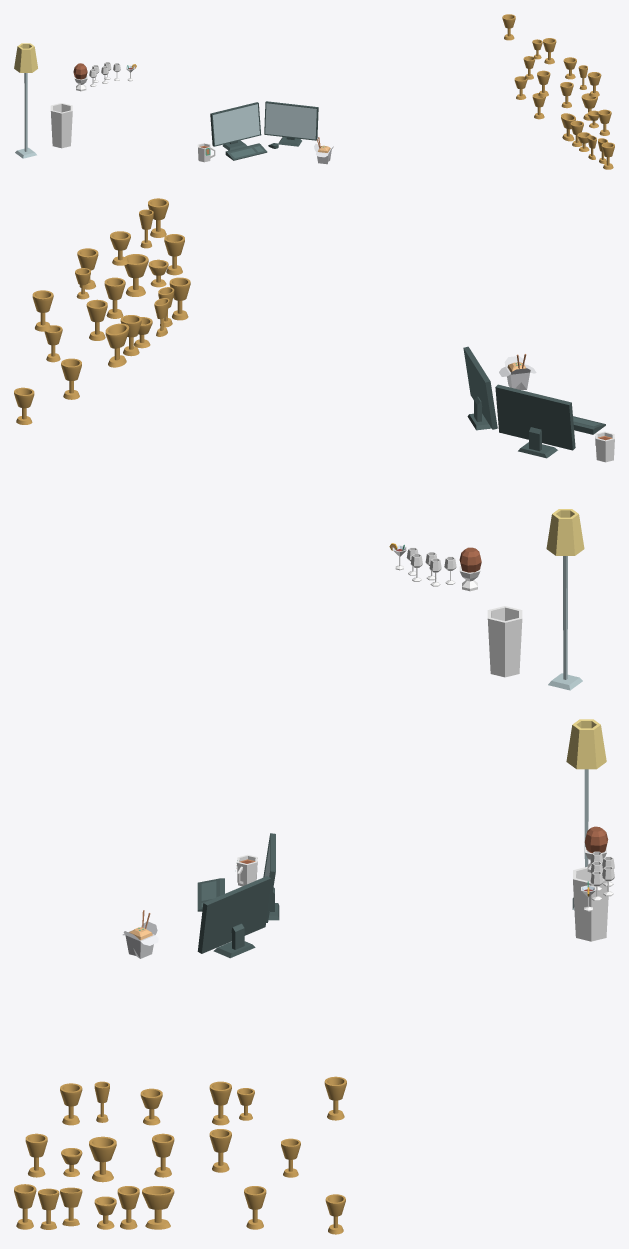
Rendered from Level_0_2_Grabbable.fbx.
3 renders of one model, top to bottom at view 1: azimuth 30°, elevation 25°; view 2: azimuth 150°, elevation 25°; view 3: azimuth 270°, elevation 25°, orthographic. The views are drawn at different scales.
Visible parts, largest first — view 1: computerScreen (×2), detailChalice (×9), lampRoundFloor, glass, computerKeyboard, chinese, cupThea; view 2: computerScreen (×2), lampRoundFloor, glass, detailChalice (×2), chinese; view 3: computerScreen (×2), lampRoundFloor, glass, detailChalice (×2), chinese.
Part boxes in pixels (x1,y1,x2,y2): computerScreen (×2): (210,101,318,150); detailChalice (×9): (502,14,614,169); lampRoundFloor: (14,43,37,158); glass: (50,103,72,148); computerKeyboard: (225,143,267,160); chinese: (314,137,333,164); cupThea: (197,143,215,162); computerScreen (×2): (463,346,575,458); lampRoundFloor: (546,509,584,690); glass: (487,606,522,677); detailChalice (×2): (105,254,148,367); chinese: (499,354,536,389); computerScreen (×2): (197,833,279,958); lampRoundFloor: (566,719,606,909); glass: (573,866,608,941); detailChalice (×2): (89,1136,174,1229); chinese: (122,910,158,958).
Size of the model in its own units: 36.34 by 8.6 by 26.12.
